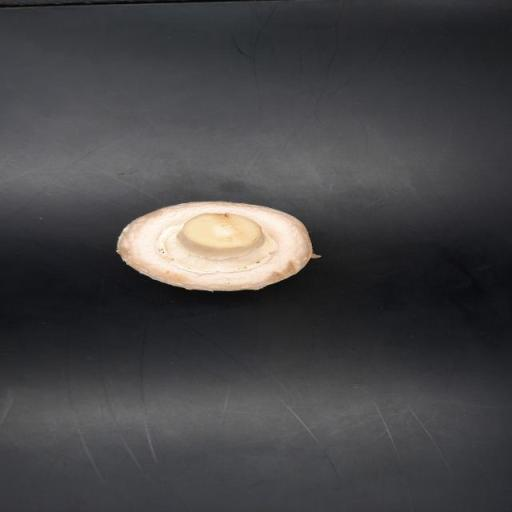Button Mushroom: (117, 203, 314, 293)
